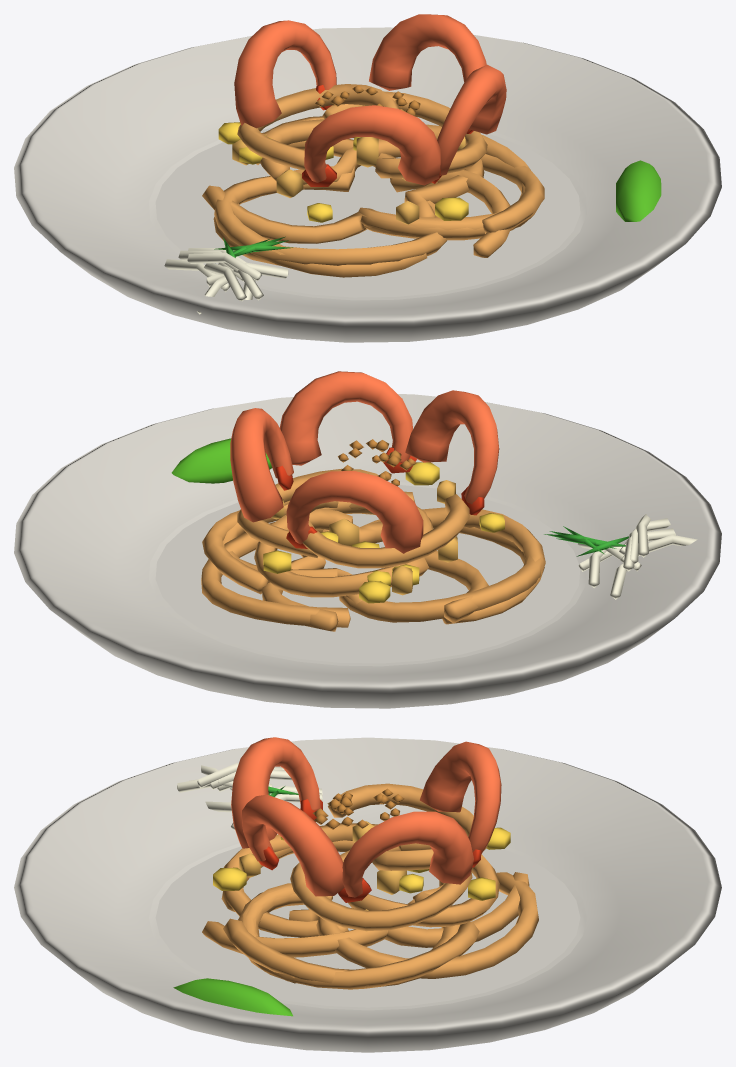
3 renders of one model, top to bottom at view 1: azimuth 30°, elevation 25°; view 2: azimuth 150°, elevation 25°; view 3: azimuth 270°, elevation 25°, orthographic.
Visible parts, largest first — view 1: plate, noodles, plate_well, shrimp, sprouts, lime, egg, tofu, peanuts, chives, shrimp_tail; view 2: plate, noodles, plate_well, shrimp, egg, sprouts, lime, tofu, peanuts, shrimp_tail, chives; view 3: plate, noodles, plate_well, shrimp, lime, egg, sprouts, peanuts, tofu, shrimp_tail.
Boxes of the visible parts, x1,y1,x2,y2 form: plate: (14, 27, 721, 342); noodles: (202, 84, 544, 277); plate_well: (155, 121, 580, 297); shrimp: (234, 14, 506, 185); sprouts: (164, 248, 288, 314); lime: (616, 160, 661, 221); egg: (218, 122, 468, 222); tofu: (232, 136, 465, 224); peanuts: (315, 85, 420, 115); chives: (214, 236, 293, 257); shrimp_tail: (302, 85, 473, 186); plate: (14, 394, 721, 708); noodles: (201, 468, 545, 631); plate_well: (155, 485, 580, 663); shrimp: (230, 371, 499, 553); egg: (263, 462, 504, 603); sprouts: (578, 514, 697, 599); lime: (171, 438, 272, 483); tofu: (271, 480, 457, 595); peanuts: (338, 439, 416, 486); shrimp_tail: (275, 447, 484, 548); chives: (544, 526, 628, 556); plate: (14, 737, 721, 1052); noodles: (202, 783, 538, 989); plate_well: (155, 846, 580, 1007); shrimp: (231, 737, 501, 897); lime: (173, 978, 292, 1016); egg: (213, 827, 510, 900); sprouts: (177, 763, 322, 830); peanuts: (313, 788, 404, 829); tofu: (239, 821, 406, 931); shrimp_tail: (258, 799, 481, 902).
Bounding box in the file's own units: 0.21 × 0.0579 × 0.21.
